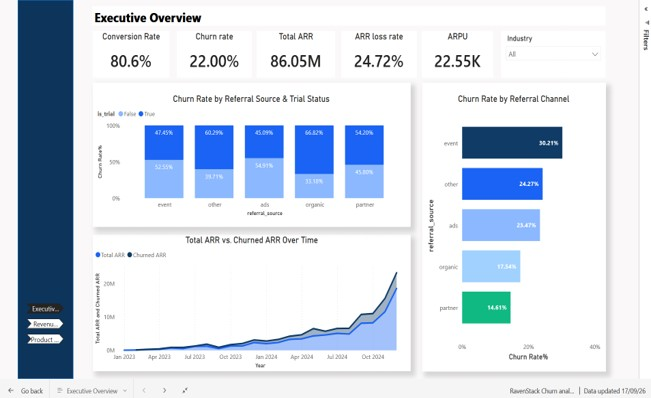

Layout of this report page (visuals, bound fields, positions):
{"tool":"powerbi","page":{"name":"Executive Overview","canvas":[1280,720],"ordinal":0},"visuals":[{"type":"shape","box":[0,0,118.6,720],"z":0},{"type":"cardVisual","title":"Conversion Rate","fields":{"Data":["_Measures.Conversion Rate%"]},"box":[160,58.8,163.8,88.8],"z":1000},{"type":"cardVisual","title":"ARR loss rate","fields":{"Data":["_Measures.ARR loss rate"]},"box":[688.8,58.8,161.2,88.8],"z":2000},{"type":"clusteredBarChart","title":"Churn Rate by Referral Channel","fields":{"Category":["accounts.referral_source"],"Y":["_Measures.Churn Rate%"]},"box":[861.4,157.1,391.4,548.6],"z":3000},{"type":"cardVisual","title":"ARPU","fields":{"Data":["_Measures.ARPU (Avg revenue generated per paying users)"]},"box":[861.2,58.8,152.5,88.8],"z":4000},{"type":"stackedAreaChart","title":"Total ARR vs. Churned ARR Over Time","fields":{"Category":["subscriptions.start_date.Variation.Date Hierarchy.Year","subscriptions.start_date.Variation.Date Hierarchy.Month"],"Y":["_Measures.Total ARR","_Measures.Churned ARR"]},"box":[160,445.7,677.1,260],"z":5000},{"type":"cardVisual","title":"Total ARR","fields":{"Data":["_Measures.Total ARR"]},"box":[508.8,58.8,167.5,88.8],"z":6000},{"type":"cardVisual","title":"Churn rate","fields":{"Data":["_Measures.Churn Rate%"]},"box":[338.8,58.8,160,88.8],"z":7000},{"type":"hundredPercentStackedColumnChart","title":"Churn Rate by Referral Source & Trial Status","fields":{"Series":["accounts.is_trial"],"Category":["accounts.referral_source"],"Y":["_Measures.Churn Rate%"]},"box":[160,157.1,677.1,274.3],"z":8000},{"type":"textbox","box":[158.6,11.4,1094.3,37.1],"z":9000},{"type":"pageNavigator","box":[18.3,576,80.7,78.3],"z":10000},{"type":"slicer","fields":{"Values":["accounts.industry"]},"box":[1030,58.8,222.5,88.8],"z":11000}]}

Visuals, with their boxes on the page's 1280x720 design canvas (x1, y1, x2, y2). These are canvas units, not pixel positions in the 651x398 screenshot, which may show the page scaled, cropped or inside an application window:
shape: <region>0, 0, 119, 720</region>
"Conversion Rate" cardVisual: <region>160, 59, 324, 148</region>
"ARR loss rate" cardVisual: <region>689, 59, 850, 148</region>
"Churn Rate by Referral Channel" clusteredBarChart: <region>861, 157, 1253, 706</region>
"ARPU" cardVisual: <region>861, 59, 1014, 148</region>
"Total ARR vs. Churned ARR Over Time" stackedAreaChart: <region>160, 446, 837, 706</region>
"Total ARR" cardVisual: <region>509, 59, 676, 148</region>
"Churn rate" cardVisual: <region>339, 59, 499, 148</region>
"Churn Rate by Referral Source & Trial Status" hundredPercentStackedColumnChart: <region>160, 157, 837, 431</region>
textbox: <region>159, 11, 1253, 48</region>
pageNavigator: <region>18, 576, 99, 654</region>
slicer - accounts.industry: <region>1030, 59, 1252, 148</region>
